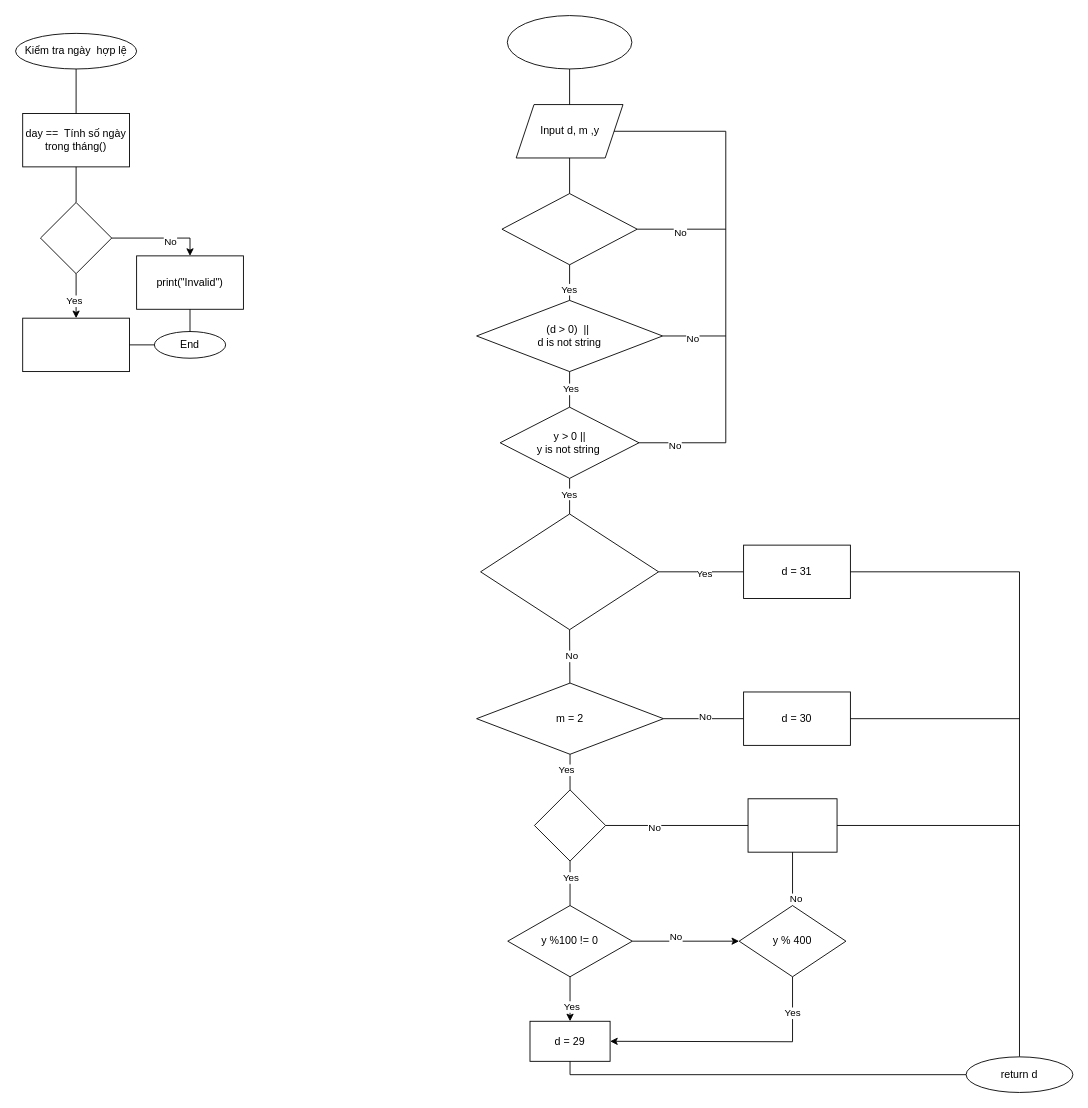
Image size: 1088x1108. Some labels were removed from this diagram. Here are the shapes that lost their labels. From the top down, the centre of each, then its label:
(x=569, y=42): Tính số ngày trong tháng
(x=76, y=238): d <= day
(x=569, y=229): (m > 0 && m < 12) || m is not string
(x=75, y=344): print("Valid")
(x=569, y=571): m = 1 || m = 3 || m = 5 || m = 7 || m = 8 || m = 10 || m = m12
(x=570, y=825): y % 4 ==0
(x=792, y=825): d = 28
